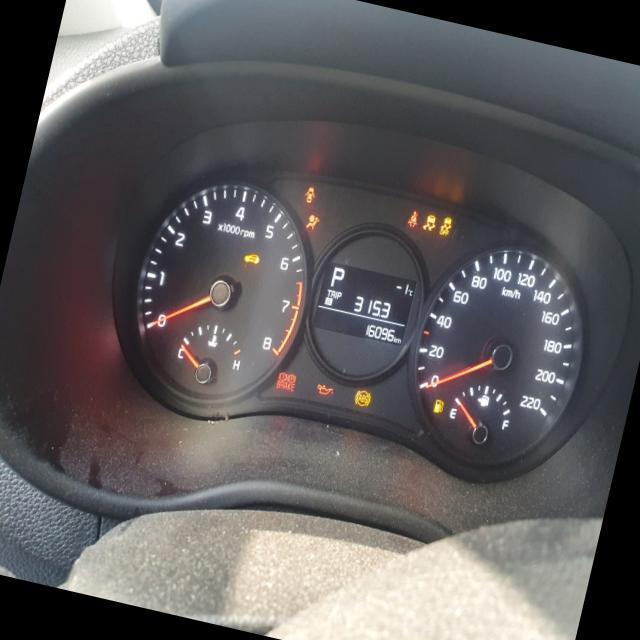Doors: (302, 185, 316, 203)
Low fuel level: (432, 397, 444, 412)
